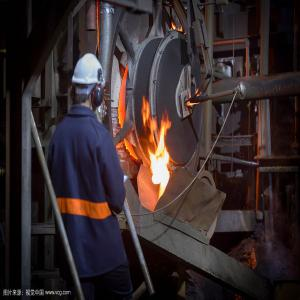white: (68, 52, 106, 115)
